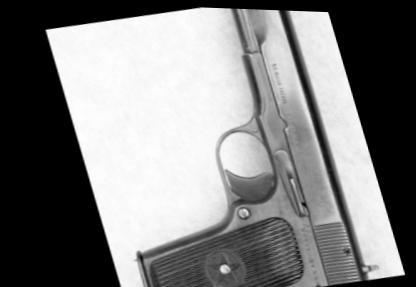pistol: (64, 1, 382, 285)
